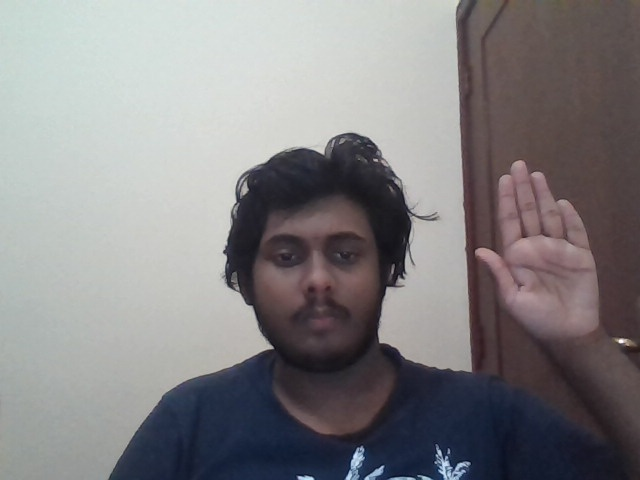hello: (473, 159, 600, 339)
